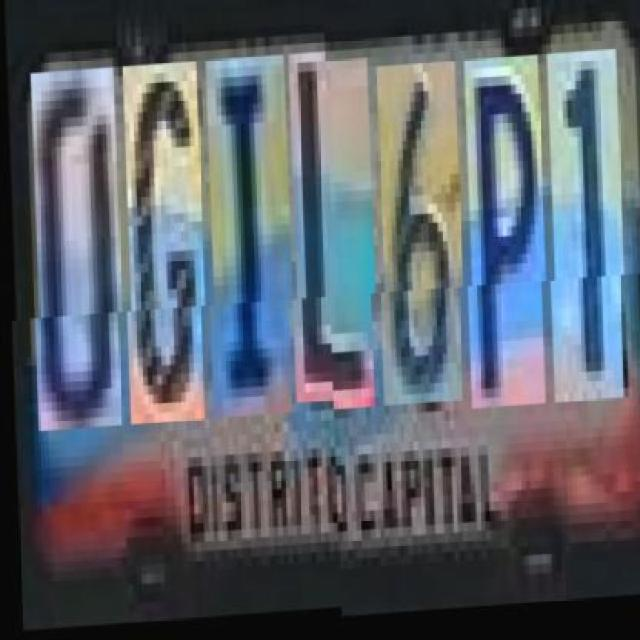0: (29, 78, 123, 440)
1: (546, 58, 626, 411)
6: (375, 67, 463, 411)
g: (122, 73, 206, 436)
i: (204, 68, 294, 430)
l: (288, 63, 377, 417)
p: (463, 63, 548, 415)
